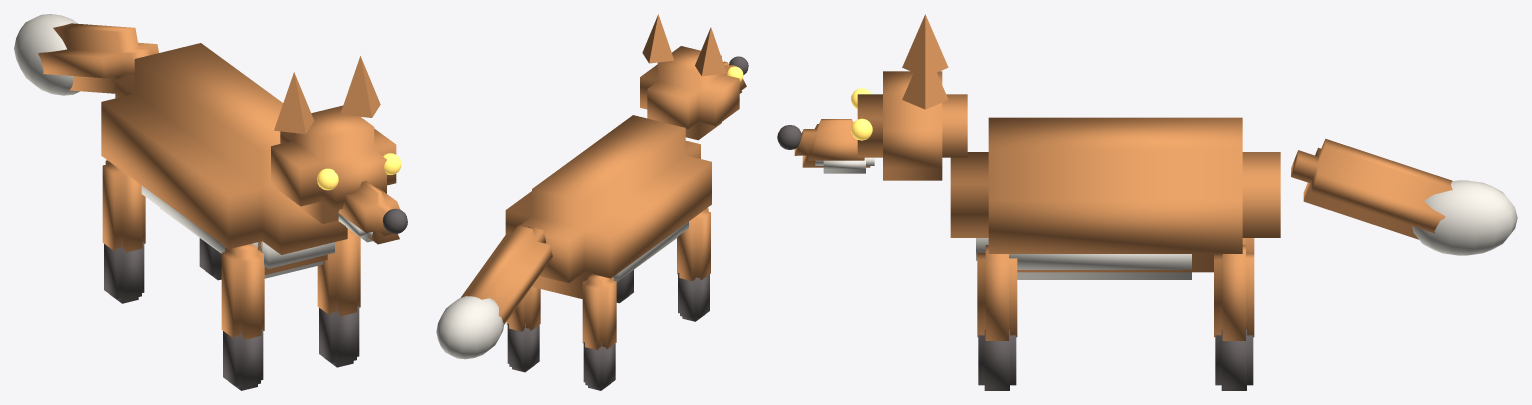
Rendered from fox.glb.
3 renders of one model, left to right at view 1: azimuth 30°, elevation 25°; view 2: azimuth 150°, elevation 25°; view 3: azimuth 270°, elevation 25°, orthographic. The views are drawn at different scales.
Parts seen in each view (by area): view 1: Body, Head, Tail, Leg_FL, Leg_BL, Leg_FR, Ear_L, Ear_R, Leg_BR; view 2: Body, Tail, Head, Leg_BL, Leg_FL, Leg_BR, Ear_R, Ear_L, Leg_FR; view 3: Body, Tail, Head, Leg_BR, Leg_FR, Ear_R, Ear_L.
Boxes of the visible parts, x1,y1,x2,y2 form: Body: [101, 43, 347, 278]; Head: [271, 105, 407, 244]; Tail: [14, 14, 158, 95]; Leg_FL: [221, 243, 264, 390]; Leg_BL: [102, 160, 145, 303]; Leg_FR: [317, 228, 360, 367]; Ear_L: [274, 72, 314, 134]; Ear_R: [340, 56, 380, 117]; Leg_BR: [199, 238, 221, 280]; Body: [505, 115, 711, 298]; Tail: [436, 225, 552, 359]; Head: [640, 46, 748, 140]; Leg_BL: [582, 274, 616, 390]; Leg_FL: [677, 208, 710, 321]; Leg_BR: [506, 286, 540, 372]; Ear_R: [642, 14, 674, 63]; Ear_L: [695, 27, 726, 76]; Leg_FR: [616, 270, 633, 303]; Body: [950, 117, 1280, 279]; Tail: [1291, 138, 1517, 255]; Head: [777, 71, 967, 180]; Leg_BR: [1214, 245, 1254, 390]; Leg_FR: [977, 245, 1017, 390]; Ear_R: [902, 46, 948, 109]; Ear_L: [902, 14, 948, 72].
Bounding box in the file's own units: 0.36 × 0.87 × 1.75.
